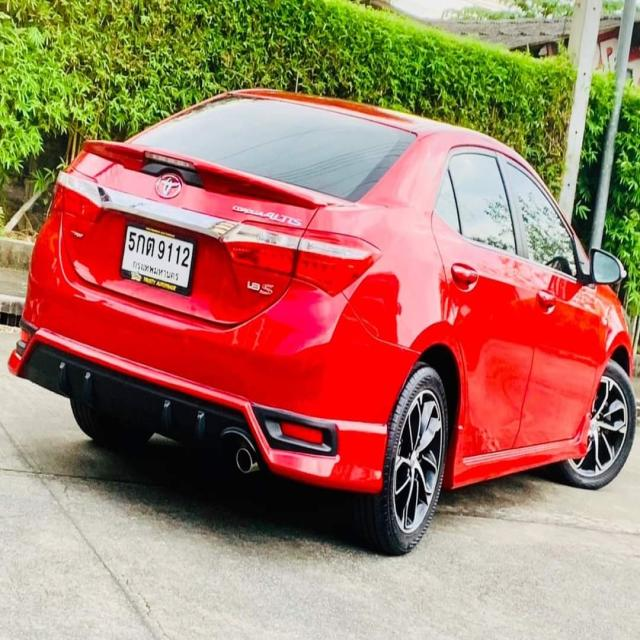license_plate: (118, 218, 198, 300)
